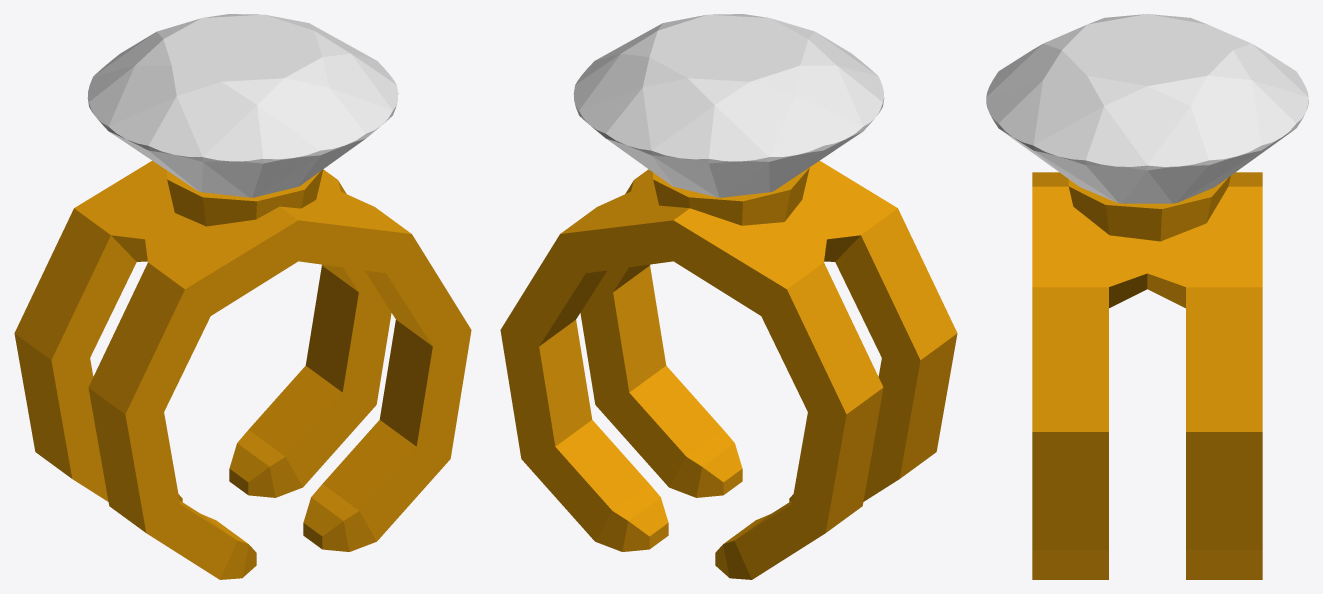
The model's file is Item_Ring.fbx.
3 views of the same model, side by side, from view 1: azimuth 30°, elevation 25°; view 2: azimuth 150°, elevation 25°; view 3: azimuth 270°, elevation 25° (orthographic). The views are drawn at different scales.
Parts seen in each view (by area): view 1: Cylinder.001; view 2: Cylinder.001; view 3: Cylinder.001.
Boxes of the visible parts, box(x1,y1,x2,y2) form: Cylinder.001: box(14, 14, 471, 579); Cylinder.001: box(500, 14, 957, 579); Cylinder.001: box(986, 14, 1308, 579).
Size of the model in its own units: 16.22 by 21.42 by 12.6.
